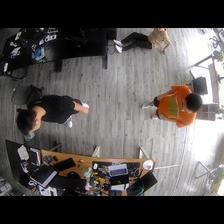fall: (112, 29, 173, 58)
normal: (140, 80, 203, 133), (16, 92, 94, 133)
